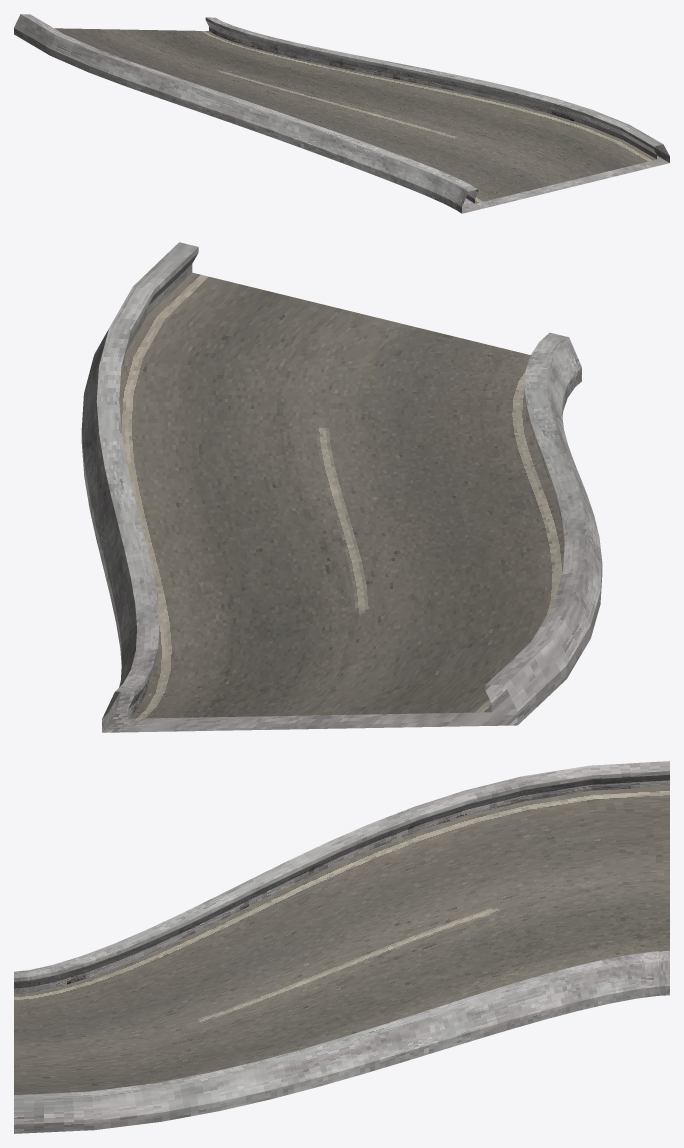
The model's file is road-Chicane-Flat-HalfBankedRight-Even-Left1-Size2.glb.
3 views of the same model, one above another, from view 1: azimuth 30°, elevation 25°; view 2: azimuth 150°, elevation 25°; view 3: azimuth 270°, elevation 25° (orthographic). The views are drawn at different scales.
Visible parts, largest first — view 1: road-Chicane-Flat-HalfBankedRight-Even-Left1-Size2; view 2: road-Chicane-Flat-HalfBankedRight-Even-Left1-Size2; view 3: road-Chicane-Flat-HalfBankedRight-Even-Left1-Size2.
Part boxes in pixels (x1,y1,x2,y2): road-Chicane-Flat-HalfBankedRight-Even-Left1-Size2: (14, 14, 669, 213); road-Chicane-Flat-HalfBankedRight-Even-Left1-Size2: (81, 242, 602, 732); road-Chicane-Flat-HalfBankedRight-Even-Left1-Size2: (14, 761, 669, 1133).
Bounding box in the file's own units: 2 × 0.3359 × 2.
2 materials, 2 textured.
